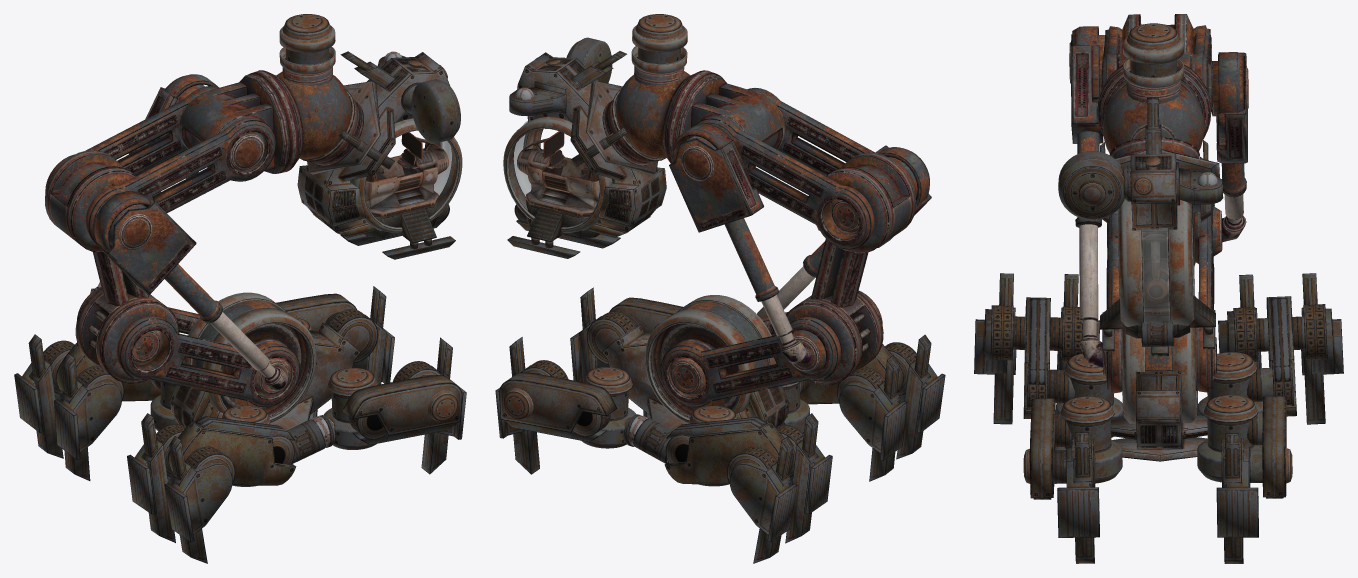
File: mech.obj
3 renders of one model, left to right at view 1: azimuth 30°, elevation 25°; view 2: azimuth 150°, elevation 25°; view 3: azimuth 270°, elevation 25°, orthographic. The views are drawn at different scales.
Parts seen in each view (by area): view 1: Neck_Mech._Neck_Mech.002, Walker_1.005, Neck_Mech_Walker, Neck_Mech.002, Neck_Mech.010_Neck_Mech.009, 1_Neck_Mech.007, Neck_Mech.013_Neck_Mech.006, Walker_and_Neck_Mech, Walker_Leg_5.001_Walker_Leg_5, Walker_Leg_5.003_Walker_1.003, Walker_Leg_2.004_Walker_Leg_2, Walker_Leg_2.002_Walker_Leg_2 (+45 smaller); view 2: Walker_1.005, Neck_Mech._Neck_Mech.002, Neck_Mech_Walker, Neck_Mech.002, Neck_Mech.012_Neck_Mech.009, 1_Neck_Mech.007, Neck_Mech.013_Neck_Mech.006, Walker_Leg_5, Walker_and_Neck_Mech, Walker_Leg_5.002_Walker_1.003, Walker_1.010_Walker_1, Neck_Mech.016_Neck_Mech.003 (+46 smaller); view 3: Walker_and_Neck_Mech, Walker_1, 1_Neck_Mech.007, Neck_Mech_Walker, Neck_Mech.002, Neck_Mech.012_Neck_Mech.009, Walker.018_Walker.012, Neck_Mech.010_Neck_Mech.009, Walker_1.010_Walker_1, Walker_Leg_L_F.001_Walker_Leg_2, Walker_Leg_2, Walker_Glas (+53 smaller).
Boxes of the visible parts, x1,y1,x2,y2 form: Neck_Mech._Neck_Mech.002: (45,86,276,245); Walker_1.005: (45,150,179,383); Neck_Mech_Walker: (297,52,449,237); Neck_Mech.002: (77,287,300,407); Neck_Mech.010_Neck_Mech.009: (94,191,196,295); 1_Neck_Mech.007: (248,70,351,173); Neck_Mech.013_Neck_Mech.006: (178,74,289,173); Walker_and_Neck_Mech: (170,323,360,430); Walker_Leg_5.001_Walker_Leg_5: (342,374,462,435); Walker_Leg_5.003_Walker_1.003: (168,421,296,485); Walker_Leg_2.004_Walker_Leg_2: (164,462,232,542); Walker_Leg_2.002_Walker_Leg_2: (54,381,121,459); Walker_1.005: (786,152,916,385); Neck_Mech._Neck_Mech.002: (688,88,916,249); Neck_Mech_Walker: (517,52,666,237); Neck_Mech.002: (660,290,882,407); Neck_Mech.012_Neck_Mech.009: (669,123,763,232); 1_Neck_Mech.007: (615,70,719,163); Neck_Mech.013_Neck_Mech.006: (675,75,785,149); Walker_Leg_5: (499,372,617,432); Walker_and_Neck_Mech: (602,324,789,430); Walker_Leg_5.002_Walker_1.003: (664,422,793,484); Walker_1.010_Walker_1: (645,295,776,423); Neck_Mech.016_Neck_Mech.003: (650,302,767,418); Walker_and_Neck_Mech: (1111,370,1207,461); Walker_1: (1118,199,1194,326); 1_Neck_Mech.007: (1097,64,1211,153); Neck_Mech_Walker: (1109,136,1219,231); Neck_Mech.002: (1106,207,1214,393); Neck_Mech.012_Neck_Mech.009: (1211,52,1248,163); Walker.018_Walker.012: (1058,151,1131,219); Neck_Mech.010_Neck_Mech.009: (1069,26,1104,143); Walker_1.010_Walker_1: (1121,296,1197,423); Walker_Leg_L_F.001_Walker_Leg_2: (1216,447,1258,537); Walker_Leg_2: (1057,448,1099,537); Walker_Glas: (1142,228,1170,322).
Size of the model in its own units: 6.34 by 6.96 by 4.79.
4 materials, 4 textured.
